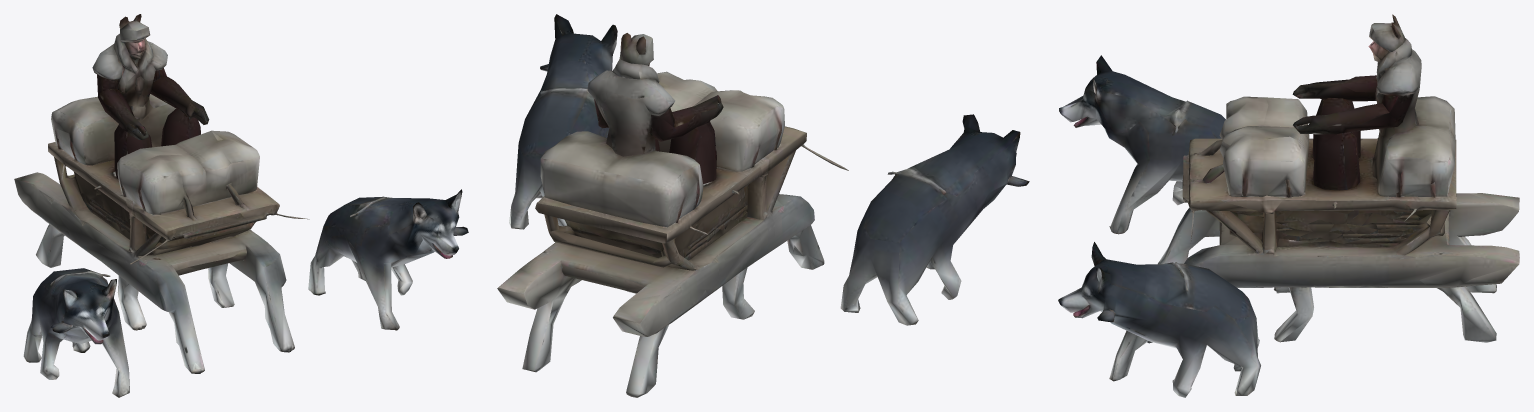
Rendered from sled.glb.
3 views of the same model, side by side, from view 1: azimuth 30°, elevation 25°; view 2: azimuth 150°, elevation 25°; view 3: azimuth 270°, elevation 25° (orthographic). The views are drawn at different scales.
Parts seen in each view (by area): view 1: Mesh; view 2: Mesh; view 3: Mesh.
Part boxes in pixels (x1=…): Mesh: x1=14, y1=14, x2=468, y2=397; Mesh: x1=497, y1=14, x2=1029, y2=397; Mesh: x1=1058, y1=14, x2=1519, y2=397.
Bounding box in the file's own units: 1.88 × 1.15 × 1.62.
1 material, 1 textured.
